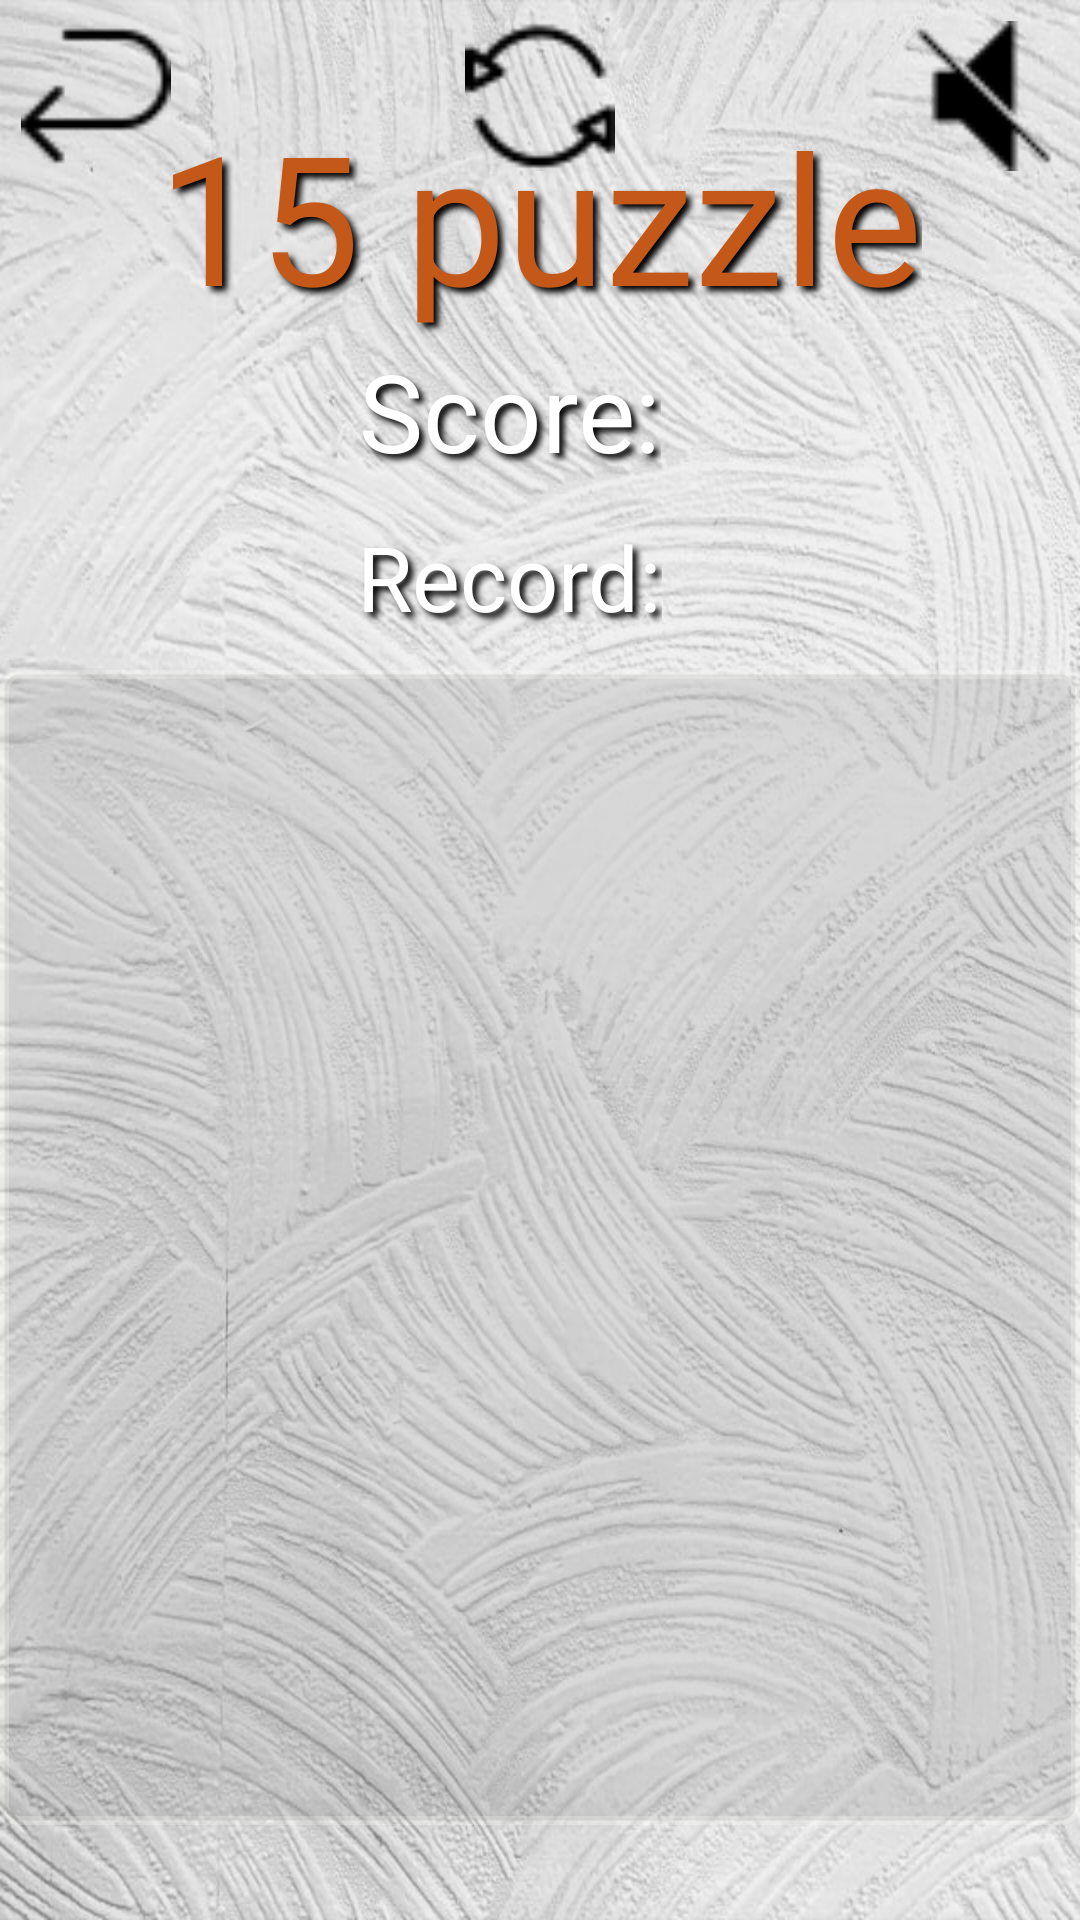

Where to tap for icons on this 1080px x 1920px app screen, as [x,y]:
back: [96,96]
restart: [540,96]
soundoff: [984,96]
